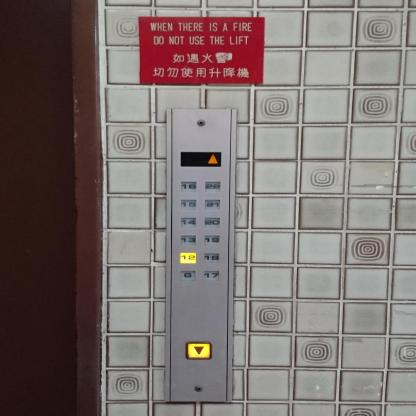12: (180, 252, 196, 264)
13: (180, 234, 196, 246)
14: (180, 217, 197, 228)
15: (180, 199, 197, 210)
16: (180, 180, 197, 192)
17: (203, 270, 219, 281)
18: (204, 252, 220, 264)
19: (204, 234, 220, 246)
20: (204, 217, 220, 228)
21: (204, 199, 220, 210)
22: (204, 181, 221, 192)
G: (180, 270, 196, 281)
down: (185, 341, 213, 360)
led: (180, 151, 222, 166)
